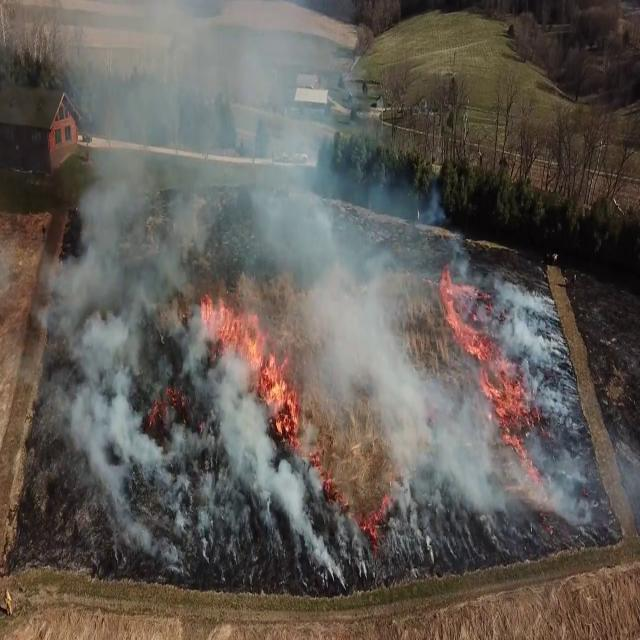Fire: (196, 280, 302, 442)
Smoke: (29, 4, 519, 576)
